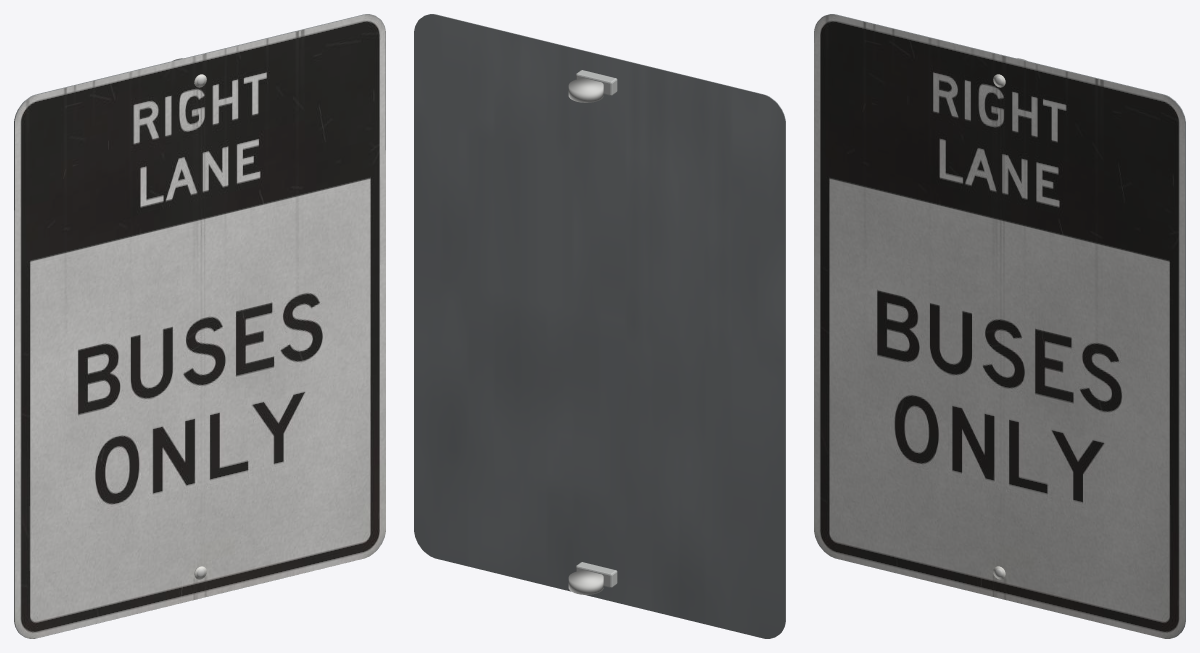
File: transitLane-v1.glb
3 renders of one model, left to right at view 1: azimuth 30°, elevation 25°; view 2: azimuth 150°, elevation 25°; view 3: azimuth 330°, elevation 25°, orthographic.
Visible parts, largest first — view 1: transitLane-v1; view 2: transitLane-v1; view 3: transitLane-v1.
Boxes of the visible parts, <box> form: transitLane-v1: <box>14,14,385,638</box>; transitLane-v1: <box>414,14,785,638</box>; transitLane-v1: <box>814,14,1185,638</box>.
Bounding box in the file's own units: 0.762 × 1.07 × 0.0871.
1 material, 1 textured.
